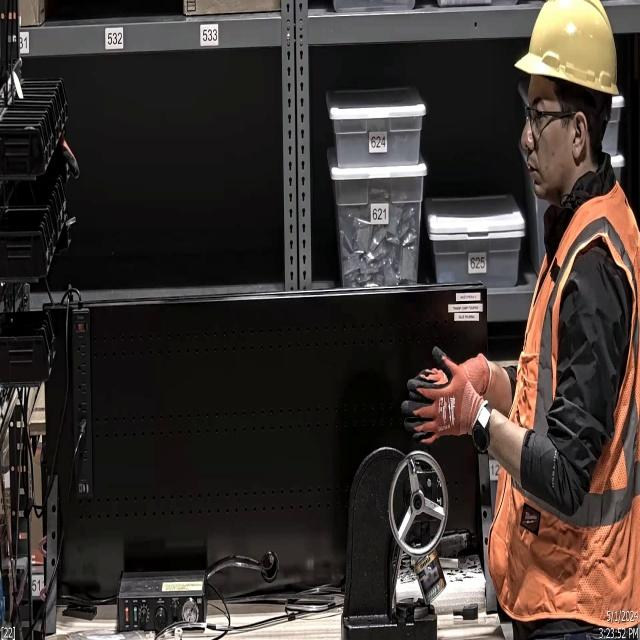gloves: (394, 346, 493, 444)
